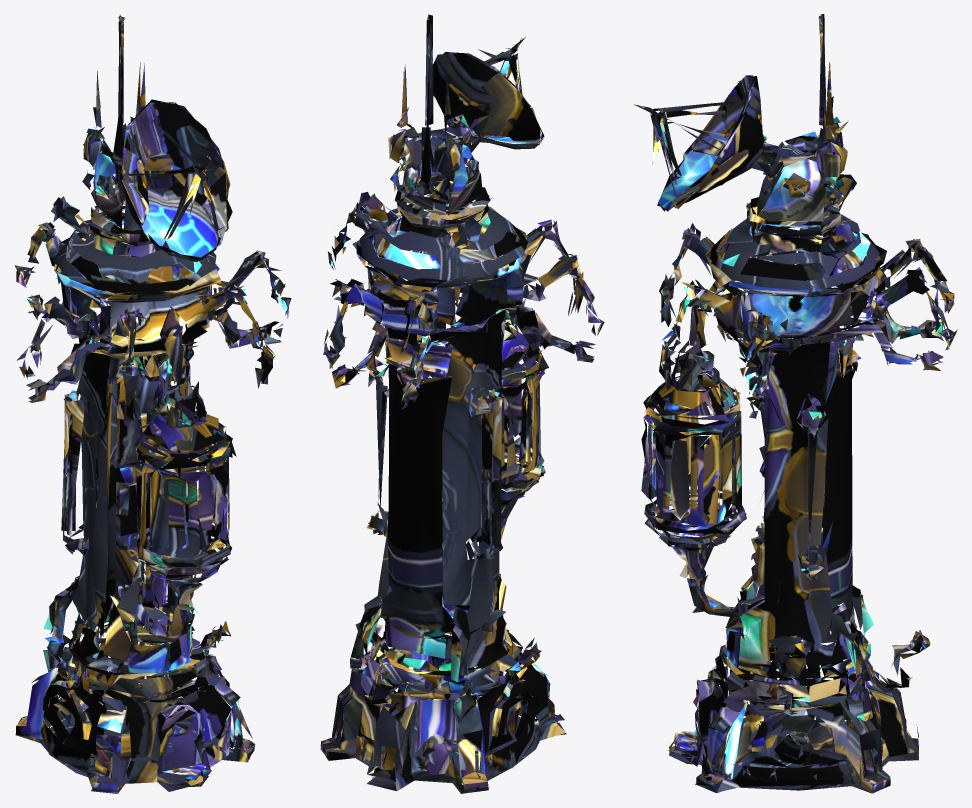
Rendered from tower_repairdrone_3d_LOD2.fbx.
3 renders of one model, left to right at view 1: azimuth 30°, elevation 25°; view 2: azimuth 150°, elevation 25°; view 3: azimuth 270°, elevation 25°, orthographic. The views are drawn at different scales.
Visible parts, largest first — view 1: Mesh1.0; view 2: Mesh1.0; view 3: Mesh1.0.
Boxes of the visible parts, x1=… form: Mesh1.0: x1=14, y1=15, x2=291, y2=793; Mesh1.0: x1=320, y1=14, x2=604, y2=793; Mesh1.0: x1=634, y1=14, x2=957, y2=793.
Bounding box in the file's own units: 49.14 × 125 × 49.63.
